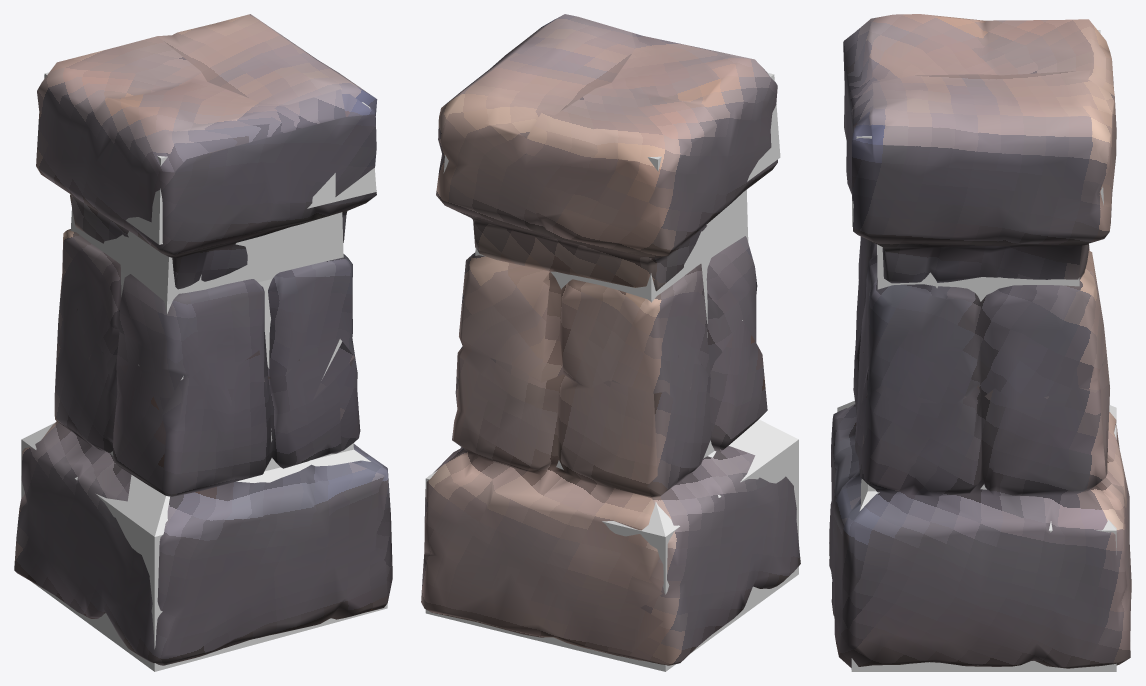
File: stone_pillar_01.fbx
The picture shows the model from 3 angles, left to right: view 1: azimuth 30°, elevation 25°; view 2: azimuth 150°, elevation 25°; view 3: azimuth 270°, elevation 25°; orthographic projection. The views are drawn at different scales.
Visible parts, largest first — view 1: stone_pillar_01, col_mesh; view 2: stone_pillar_01, col_mesh; view 3: stone_pillar_01, col_mesh.
Boxes of the visible parts, <box> form: stone_pillar_01: <box>14,14,392,665</box>; col_mesh: <box>21,72,387,671</box>; stone_pillar_01: <box>421,14,800,665</box>; col_mesh: <box>425,72,798,671</box>; stone_pillar_01: <box>829,14,1131,668</box>; col_mesh: <box>837,30,1116,671</box>.
Size of the model in its own units: 4.04 by 7.8 by 3.88.
